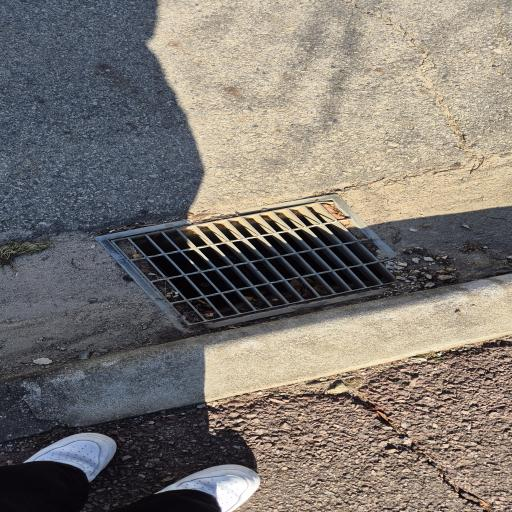drain: (98, 194, 396, 327)
